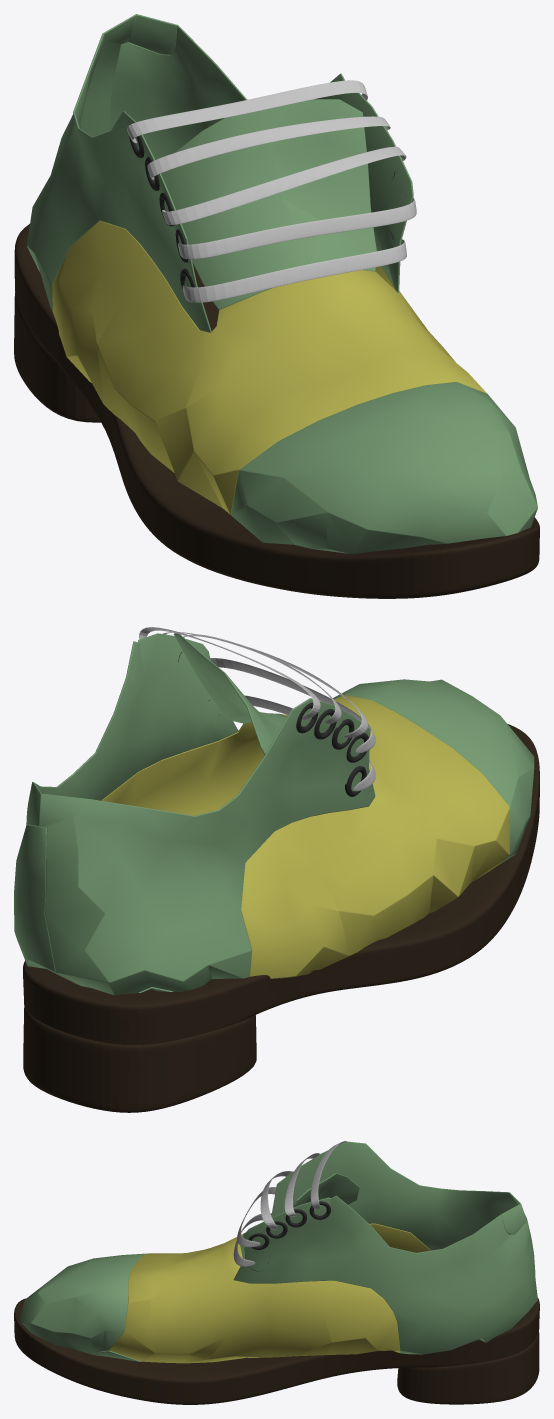
The model's file is za1ve2derecha.fbx.
3 renders of one model, top to bottom at view 1: azimuth 30°, elevation 25°; view 2: azimuth 150°, elevation 25°; view 3: azimuth 270°, elevation 25°, orthographic. The views are drawn at different scales.
Visible parts, largest first — view 1: ZAPATO1_3, Plane, Plane.002, Plane.005, Plane.001, Plane.004, Plane.003; view 2: ZAPATO1_3, Plane, Plane.002, Plane.004, Plane.005, Plane.001; view 3: ZAPATO1_3, Plane, Plane.001, Plane.004, Plane.003, Plane.002, Plane.005.
Part boxes in pixels (x1,y1,x2,y2): ZAPATO1_3: (27, 14, 537, 553); Plane: (14, 224, 539, 598); Plane.002: (178, 197, 416, 259); Plane.005: (182, 239, 406, 302); Plane.001: (162, 146, 406, 224); Plane.004: (127, 80, 367, 143); Plane.003: (147, 116, 390, 179); ZAPATO1_3: (14, 633, 534, 995); Plane: (23, 724, 539, 1112); Plane.002: (210, 658, 375, 753); Plane.004: (139, 627, 320, 720); Plane.005: (244, 695, 375, 791); Plane.001: (183, 634, 367, 737); ZAPATO1_3: (19, 1141, 537, 1363); Plane: (14, 1298, 539, 1404); Plane.001: (260, 1171, 293, 1230); Plane.004: (310, 1141, 347, 1209); Plane.003: (284, 1153, 320, 1216); Plane.002: (237, 1187, 276, 1247); Plane.005: (233, 1213, 271, 1266).
Size of the model in its own units: 174 by 204 by 447.
